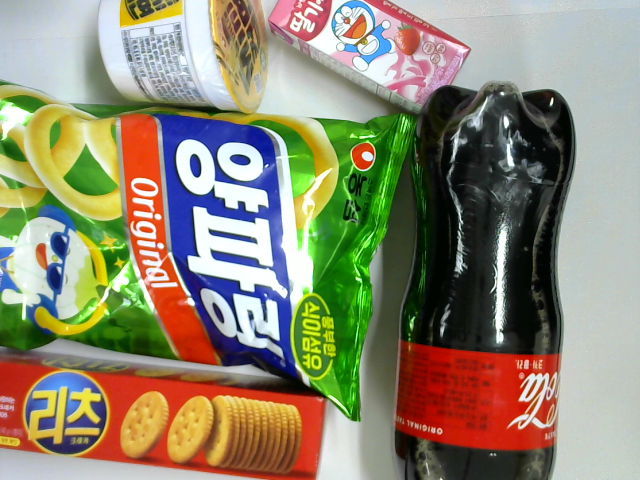Coca_Cola_1.5L: (388, 84, 584, 480)
Hejangmini: (96, 1, 270, 120)
Oninon_Ring: (1, 68, 415, 424)
Ritz_Cracker: (1, 340, 332, 478)
Strawberry_E_Mong: (265, 1, 474, 117)
